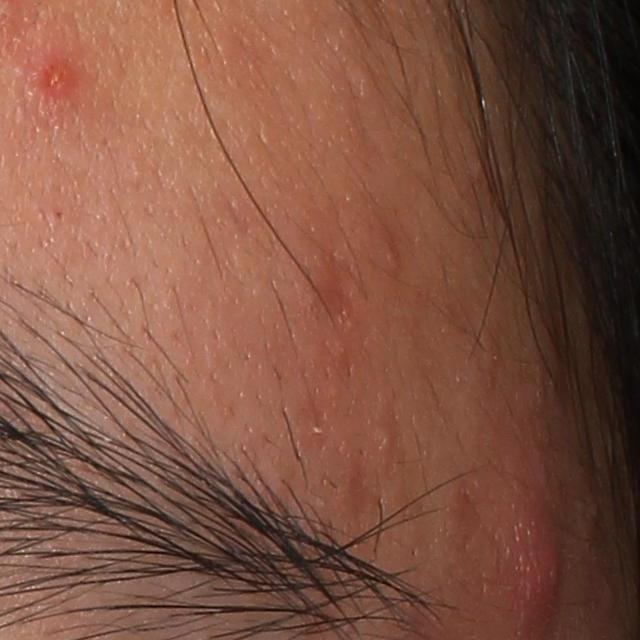papule: (30, 56, 82, 108)
